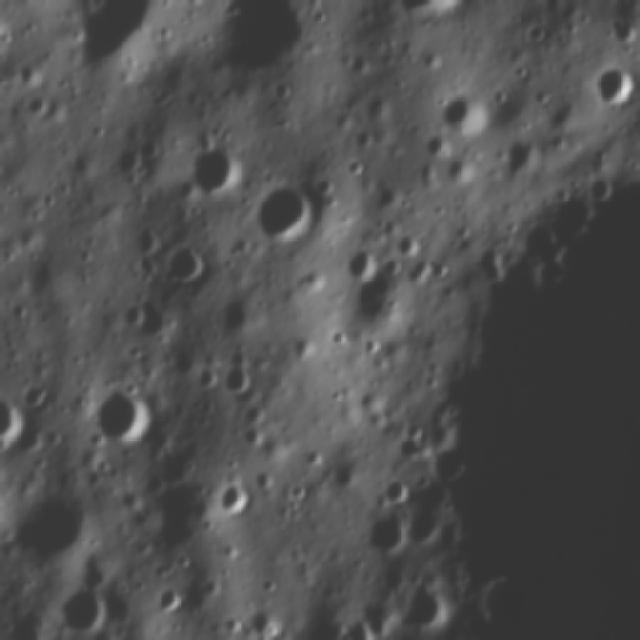crater: (200, 0, 326, 98), (0, 476, 103, 570), (70, 0, 190, 77), (332, 256, 414, 341), (242, 170, 322, 248), (83, 373, 160, 452), (390, 575, 456, 637), (185, 137, 244, 206), (55, 578, 119, 637), (348, 504, 414, 558), (120, 293, 185, 345), (436, 81, 502, 132), (586, 62, 640, 118), (496, 128, 547, 184), (375, 0, 483, 26), (220, 280, 268, 337), (428, 437, 474, 492), (164, 235, 216, 280), (210, 472, 256, 522), (208, 358, 258, 400), (163, 332, 206, 380), (280, 323, 325, 368), (474, 232, 512, 283), (340, 242, 382, 284), (0, 396, 28, 456), (20, 371, 60, 411), (602, 8, 638, 52), (583, 168, 622, 208), (232, 395, 272, 434), (247, 600, 287, 637), (149, 581, 186, 619), (108, 144, 146, 181), (437, 152, 474, 188), (17, 85, 54, 121), (129, 222, 165, 258), (379, 468, 413, 502), (16, 56, 46, 93), (393, 224, 425, 258), (582, 140, 612, 171), (234, 424, 268, 451), (428, 251, 455, 284), (419, 131, 448, 160), (280, 477, 311, 503), (138, 134, 164, 160), (530, 84, 553, 113)
